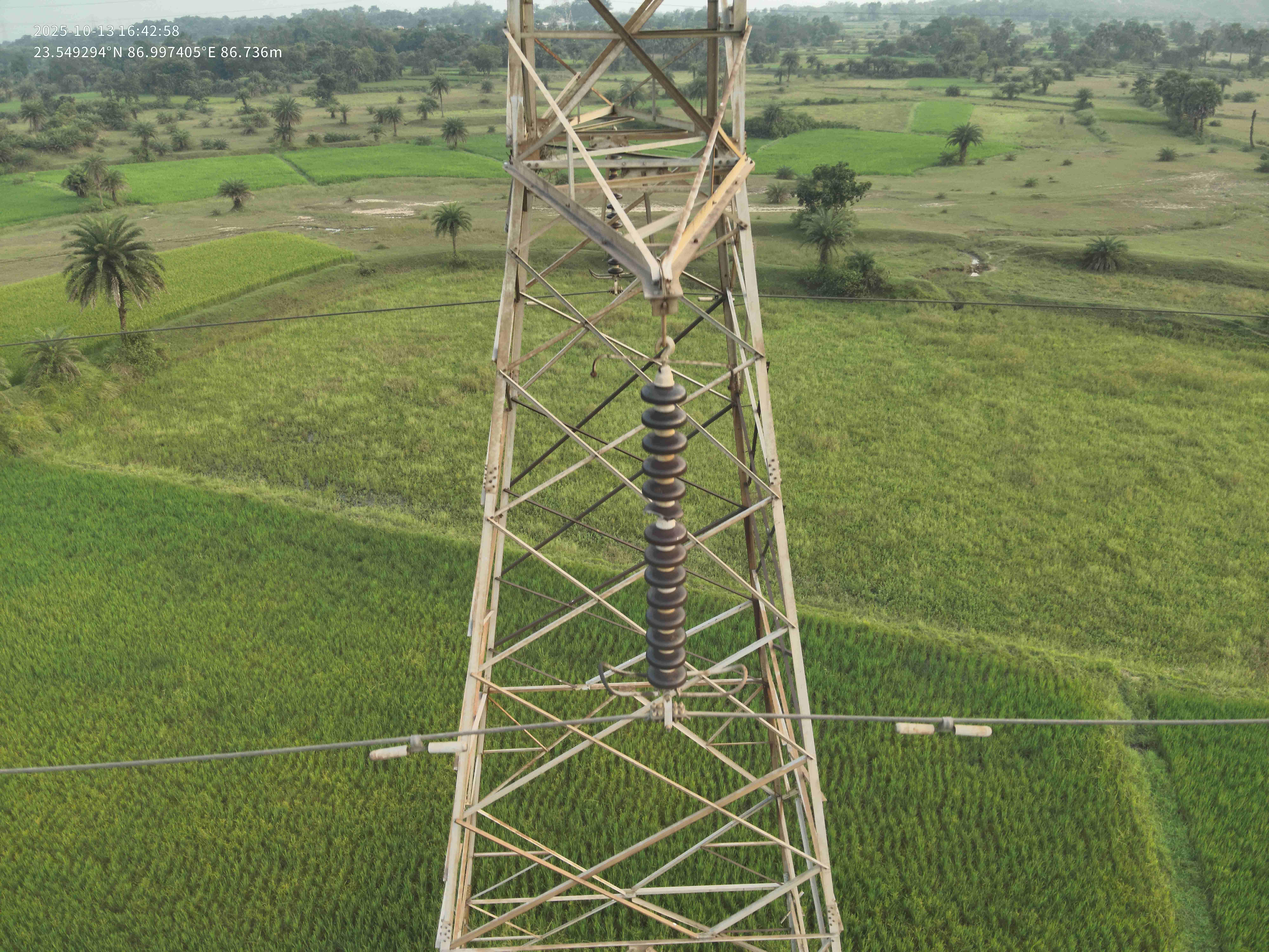broken_insulator: (637, 504, 687, 523)
